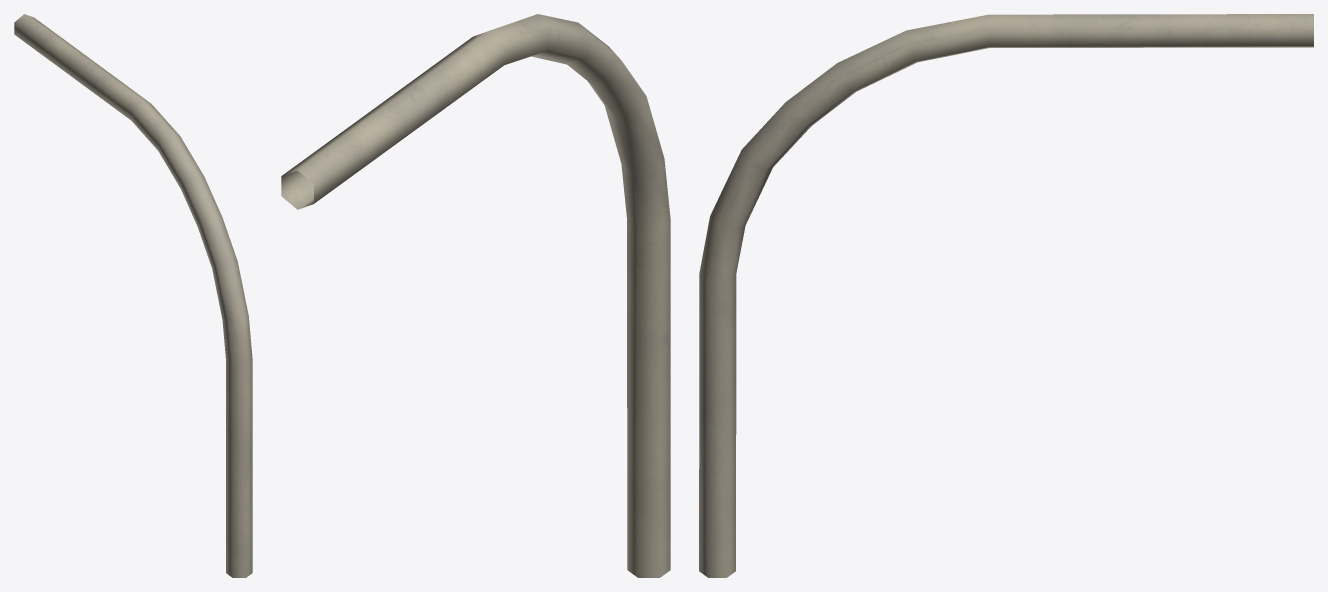
File: MB_Tube_B_Angle_01.fbx
3 renders of one model, left to right at view 1: azimuth 30°, elevation 25°; view 2: azimuth 150°, elevation 25°; view 3: azimuth 270°, elevation 25°, orthographic. The views are drawn at different scales.
Parts seen in each view (by area): view 1: MB_Tube_B_Angle_01; view 2: MB_Tube_B_Angle_01; view 3: MB_Tube_B_Angle_01.
Part boxes in pixels (x1=…): MB_Tube_B_Angle_01: x1=14, y1=14, x2=252, y2=577; MB_Tube_B_Angle_01: x1=281, y1=14, x2=670, y2=577; MB_Tube_B_Angle_01: x1=699, y1=14, x2=1313, y2=577.
Bounding box in the file's own units: 5.37 × 103 × 103.
